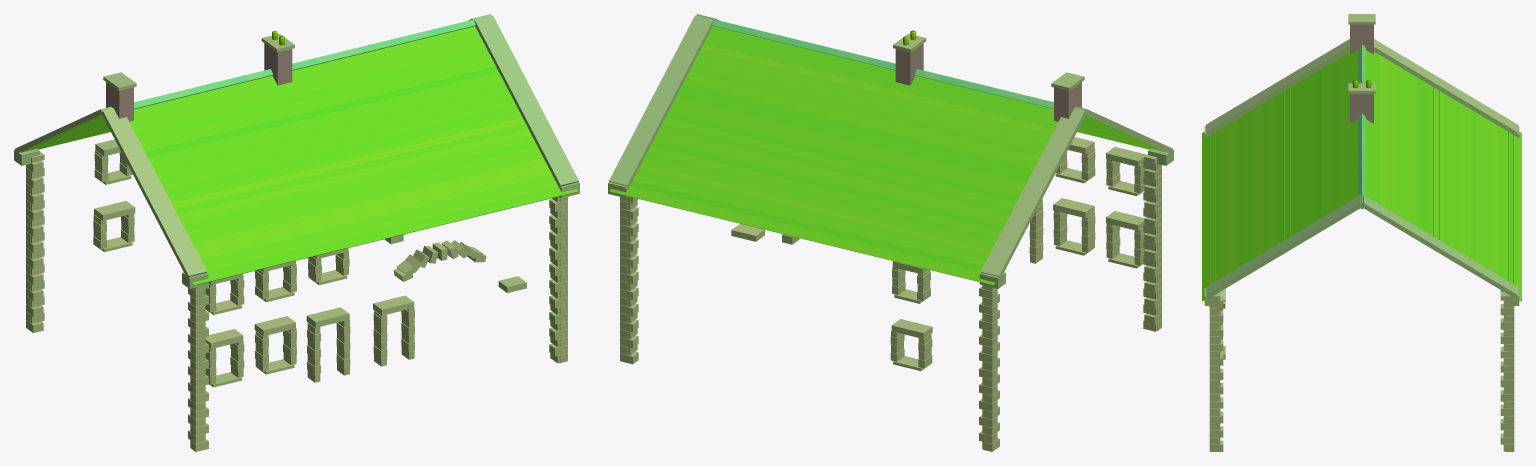
Rendered from SM_Bld_146_Stone.glb.
The picture shows the model from 3 angles, left to right: view 1: azimuth 30°, elevation 25°; view 2: azimuth 150°, elevation 25°; view 3: azimuth 270°, elevation 25°; orthographic projection. The views are drawn at different scales.
Parts seen in each view (by area): view 1: SM_Bld_146_Stone; view 2: SM_Bld_146_Stone; view 3: SM_Bld_146_Stone.
Part boxes in pixels (bbox=[...]): SM_Bld_146_Stone: bbox=[14, 14, 579, 451]; SM_Bld_146_Stone: bbox=[608, 14, 1173, 451]; SM_Bld_146_Stone: bbox=[1202, 14, 1521, 451].
Size of the model in its own units: 15.24 by 11.73 by 12.08.
